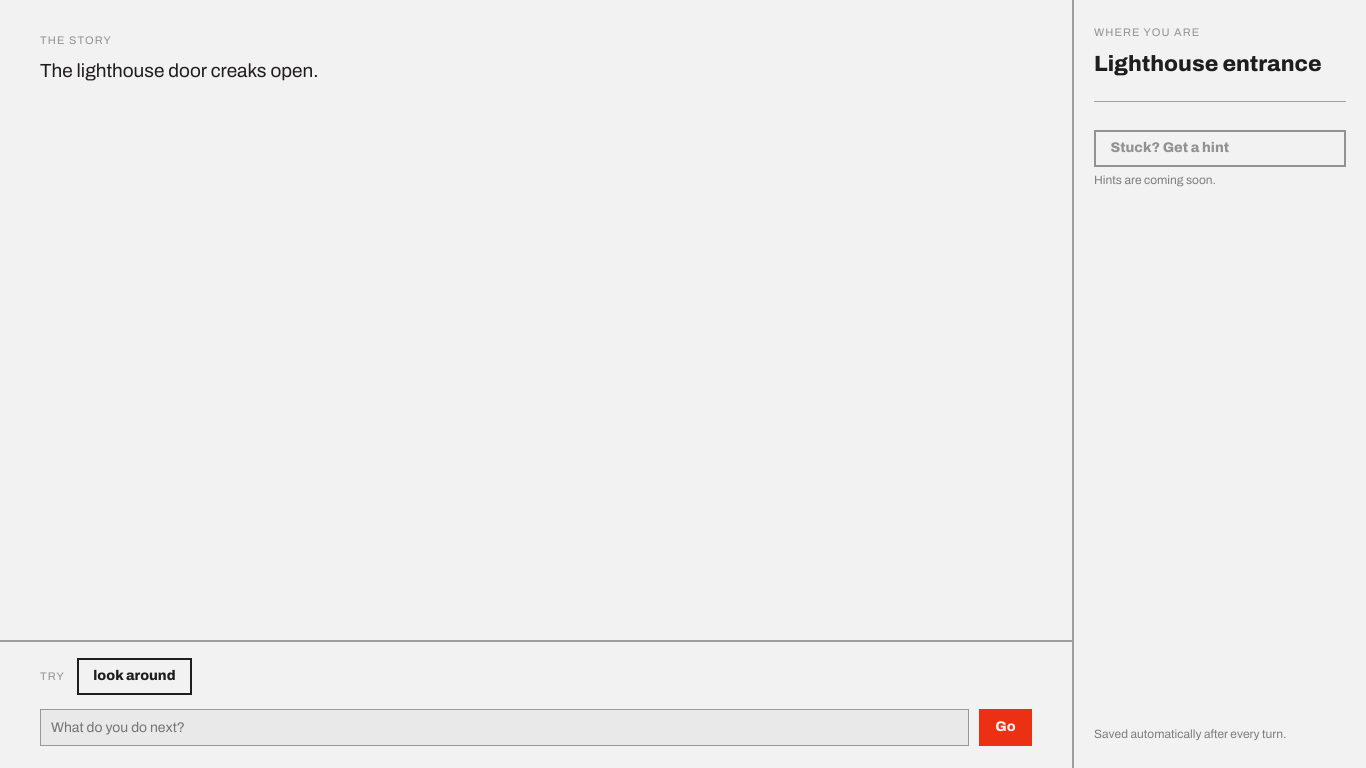
Test: Autosave disclosure (008-core-gameplay-done, FR-017, SC-014) › keeps the label visible after further turns
The width and height of the screenshot is (1366, 768).
Type "look around" into the field labelled "What do you do next?". click: point(504, 728)
box: x1=40 y1=709 x2=969 y2=746
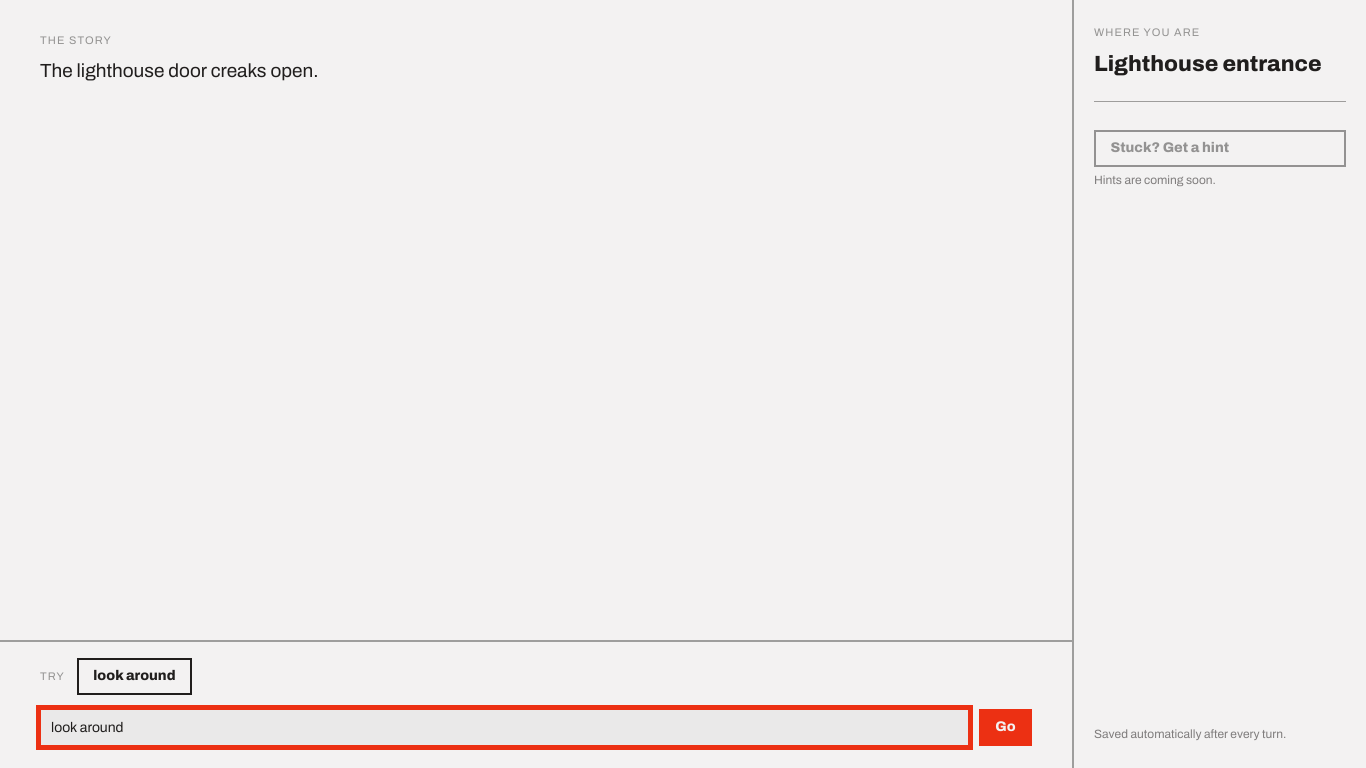
Click the button "Go". click: point(1005, 728)
box: x1=979 y1=709 x2=1032 y2=746
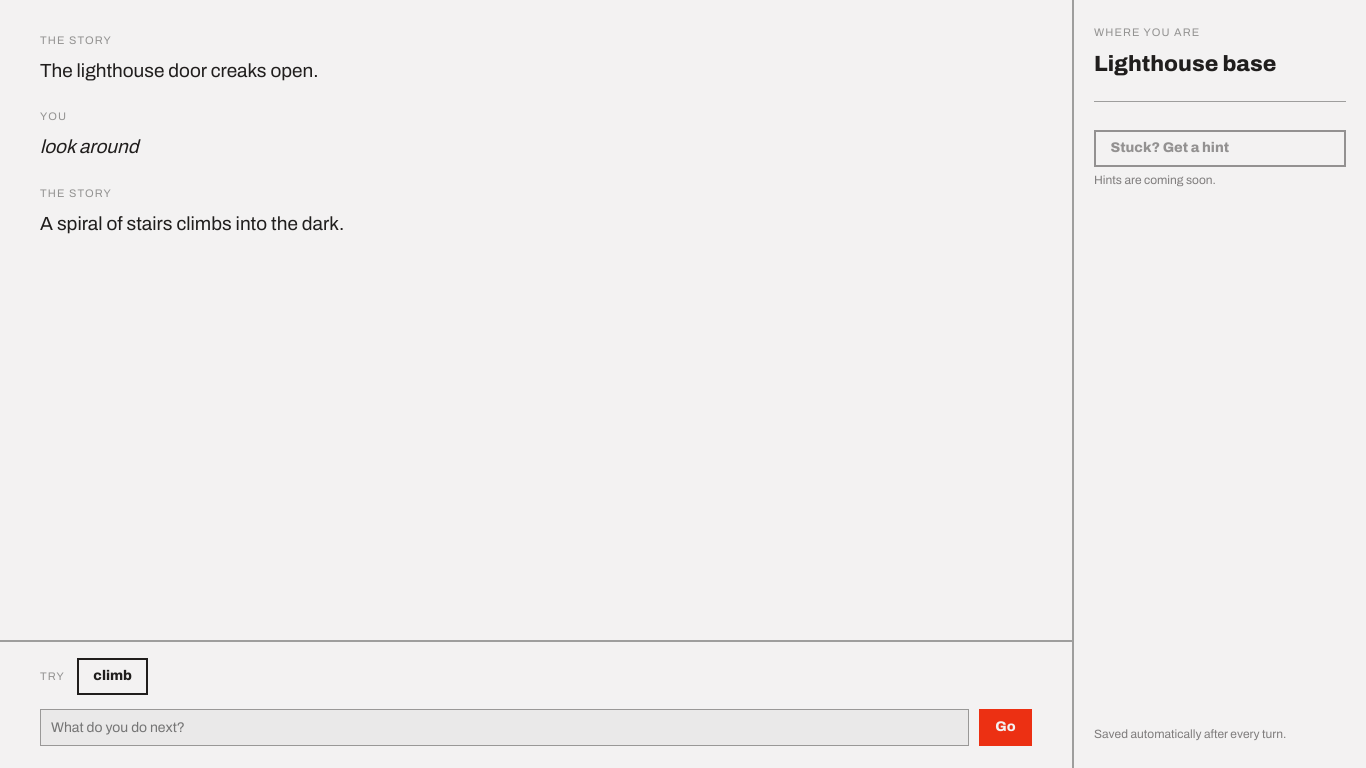
Check: the text "Saved automatically after every turn." is shown, box x1=1094 y1=727 x2=1286 y2=741
Check: the text "A spiral of stairs climbs into the dark." is shown, box x1=40 y1=213 x2=344 y2=234
